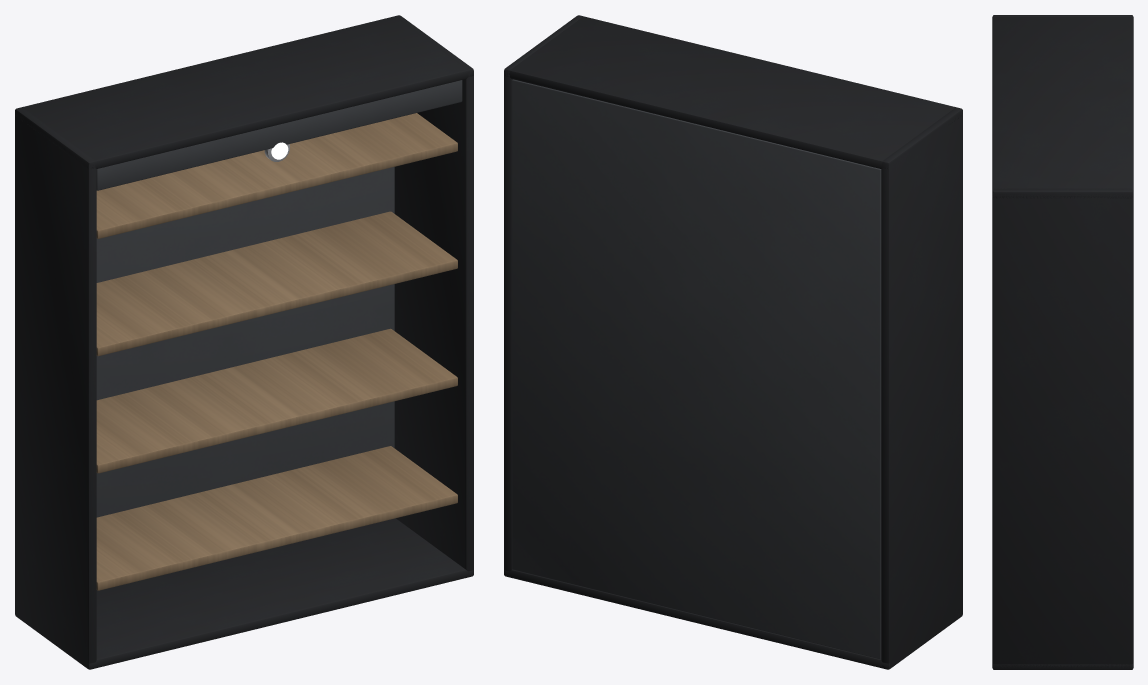
Rendered from pf_display_built_in_cabinetry_t2.glb.
3 renders of one model, left to right at view 1: azimuth 30°, elevation 25°; view 2: azimuth 150°, elevation 25°; view 3: azimuth 270°, elevation 25°, orthographic. The views are drawn at different scales.
Visible parts, largest first — view 1: Case_Left, Case_Back, Case_Top, Case_Base, Case_Right, Shelf_02, Shelf_03, Shelf_01, Shelf_04, Header_Back; view 2: Case_Back, Case_Left, Case_Top, Case_Right, Case_Base; view 3: Case_Right, Case_Top, Case_Base, Case_Left.
Part boxes in pixels (x1,y1,x2,y2): Case_Left: (15, 107, 96, 669); Case_Back: (96, 167, 394, 517); Case_Top: (15, 15, 473, 168); Case_Base: (15, 518, 473, 669); Case_Right: (394, 15, 473, 574); Shelf_02: (96, 328, 457, 473); Shelf_03: (96, 211, 457, 356); Shelf_01: (96, 446, 457, 590); Shelf_04: (96, 113, 457, 238); Header_Back: (96, 80, 462, 190); Case_Back: (512, 79, 881, 658); Case_Left: (881, 107, 962, 669); Case_Top: (504, 15, 962, 168); Case_Right: (504, 15, 582, 576); Case_Base: (504, 569, 961, 669); Case_Right: (992, 188, 1133, 669); Case_Top: (992, 15, 1133, 198); Case_Base: (992, 663, 1133, 669); Case_Left: (992, 15, 1133, 18).
Bounding box in the file's own units: 1.55 × 1.95 × 0.52.
Materials: 6 (3 with a texture image).
